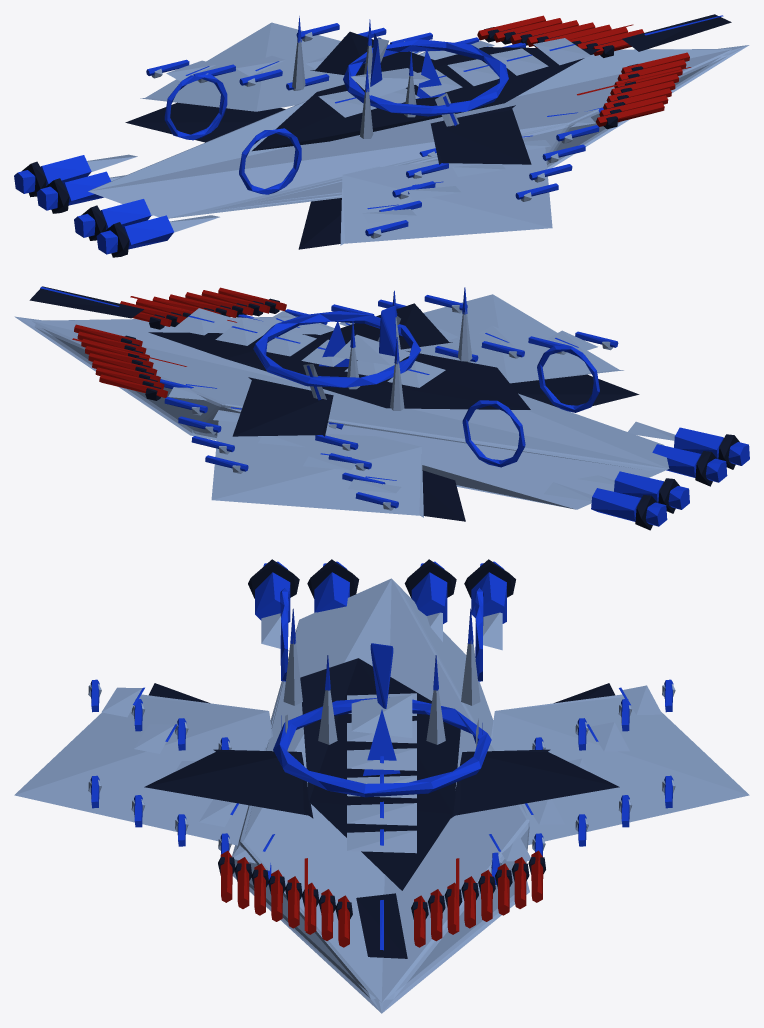
Rendered from destiny_lord_lod1.obj.
3 renders of one model, top to bottom at view 1: azimuth 30°, elevation 25°; view 2: azimuth 150°, elevation 25°; view 3: azimuth 270°, elevation 25°, orthographic. The views are drawn at different scales.
Parts seen in each view (by area): view 1: LOD1_DL2_Main_Hull, LOD1_DL2_Starboard_Wing, LOD1_DL2_Port_Wing, LOD1_DL2_Upper_Armor, LOD1_DL2_Starboard_Upper_Wing, LOD1_DL2_Fate_Ring, LOD1_DL2_Port_Lower_Wing, LOD1_DL2_Port_Upper_Wing, LOD1_DL2_Starboard_Lower_Wing, LOD1_DL3_Bow_Crest, LOD1_DL2_Aura_Guardian, LOD1_DL2_Aura_Suppression (+37 smaller); view 2: LOD1_DL2_Main_Hull, LOD1_DL2_Port_Wing, LOD1_DL2_Upper_Armor, LOD1_DL2_Starboard_Wing, LOD1_DL2_Port_Upper_Wing, LOD1_DL2_Fate_Ring, LOD1_DL2_Starboard_Lower_Wing, LOD1_DL2_Starboard_Upper_Wing, LOD1_DL2_Port_Lower_Wing, LOD1_DL3_Bow_Crest, LOD1_DL2_Aura_Guardian, LOD1_DL2_Aura_Suppression (+38 smaller); view 3: LOD1_DL2_Main_Hull, LOD1_DL2_Starboard_Wing, LOD1_DL2_Port_Wing, LOD1_DL2_Upper_Armor, LOD1_DL2_Port_Upper_Wing, LOD1_DL2_Starboard_Upper_Wing, LOD1_DL2_Fate_Ring, LOD1_DL3_Bow_Crest, LOD1_DL2_Bridge, LOD1_DL3_Spine_Armor_0, LOD1_DL3_Spine_Armor_1, LOD1_DL2_Engine_1_0 (+16 smaller).
Boxes of the visible parts, x1,y1,x2,y2 form: LOD1_DL2_Main_Hull: [88, 45, 749, 218]; LOD1_DL2_Starboard_Wing: [340, 147, 552, 245]; LOD1_DL2_Port_Wing: [140, 22, 344, 111]; LOD1_DL2_Upper_Armor: [252, 47, 600, 151]; LOD1_DL2_Starboard_Upper_Wing: [430, 105, 531, 164]; LOD1_DL2_Fate_Ring: [343, 39, 508, 116]; LOD1_DL2_Port_Lower_Wing: [125, 102, 285, 142]; LOD1_DL2_Port_Upper_Wing: [310, 31, 434, 75]; LOD1_DL2_Starboard_Lower_Wing: [298, 198, 341, 249]; LOD1_DL3_Bow_Crest: [622, 14, 731, 51]; LOD1_DL2_Aura_Guardian: [164, 74, 227, 140]; LOD1_DL2_Aura_Suppression: [239, 128, 301, 194]; LOD1_DL2_Main_Hull: [14, 316, 669, 509]; LOD1_DL2_Port_Wing: [211, 420, 423, 517]; LOD1_DL2_Upper_Armor: [148, 332, 530, 409]; LOD1_DL2_Starboard_Wing: [402, 294, 623, 383]; LOD1_DL2_Port_Upper_Wing: [232, 377, 333, 436]; LOD1_DL2_Fate_Ring: [253, 311, 420, 387]; LOD1_DL2_Starboard_Lower_Wing: [510, 374, 639, 407]; LOD1_DL2_Starboard_Upper_Wing: [320, 303, 452, 349]; LOD1_DL2_Port_Lower_Wing: [422, 470, 465, 521]; LOD1_DL3_Bow_Crest: [29, 286, 143, 318]; LOD1_DL2_Aura_Guardian: [462, 400, 525, 467]; LOD1_DL2_Aura_Suppression: [537, 345, 599, 412]; LOD1_DL2_Main_Hull: [232, 578, 529, 1013]; LOD1_DL2_Starboard_Wing: [14, 694, 272, 845]; LOD1_DL2_Port_Wing: [490, 694, 749, 845]; LOD1_DL2_Upper_Armor: [300, 658, 460, 890]; LOD1_DL2_Port_Upper_Wing: [451, 749, 619, 818]; LOD1_DL2_Starboard_Upper_Wing: [144, 749, 313, 818]; LOD1_DL2_Fate_Ring: [273, 697, 491, 797]; LOD1_DL3_Bow_Crest: [356, 893, 407, 958]; LOD1_DL2_Bridge: [351, 694, 412, 737]; LOD1_DL3_Spine_Armor_0: [347, 830, 416, 853]; LOD1_DL3_Spine_Armor_1: [347, 803, 416, 825]; LOD1_DL2_Engine_1_0: [411, 572, 447, 623].
Size of the model in its own units: 96.3 by 17.11 by 68.
